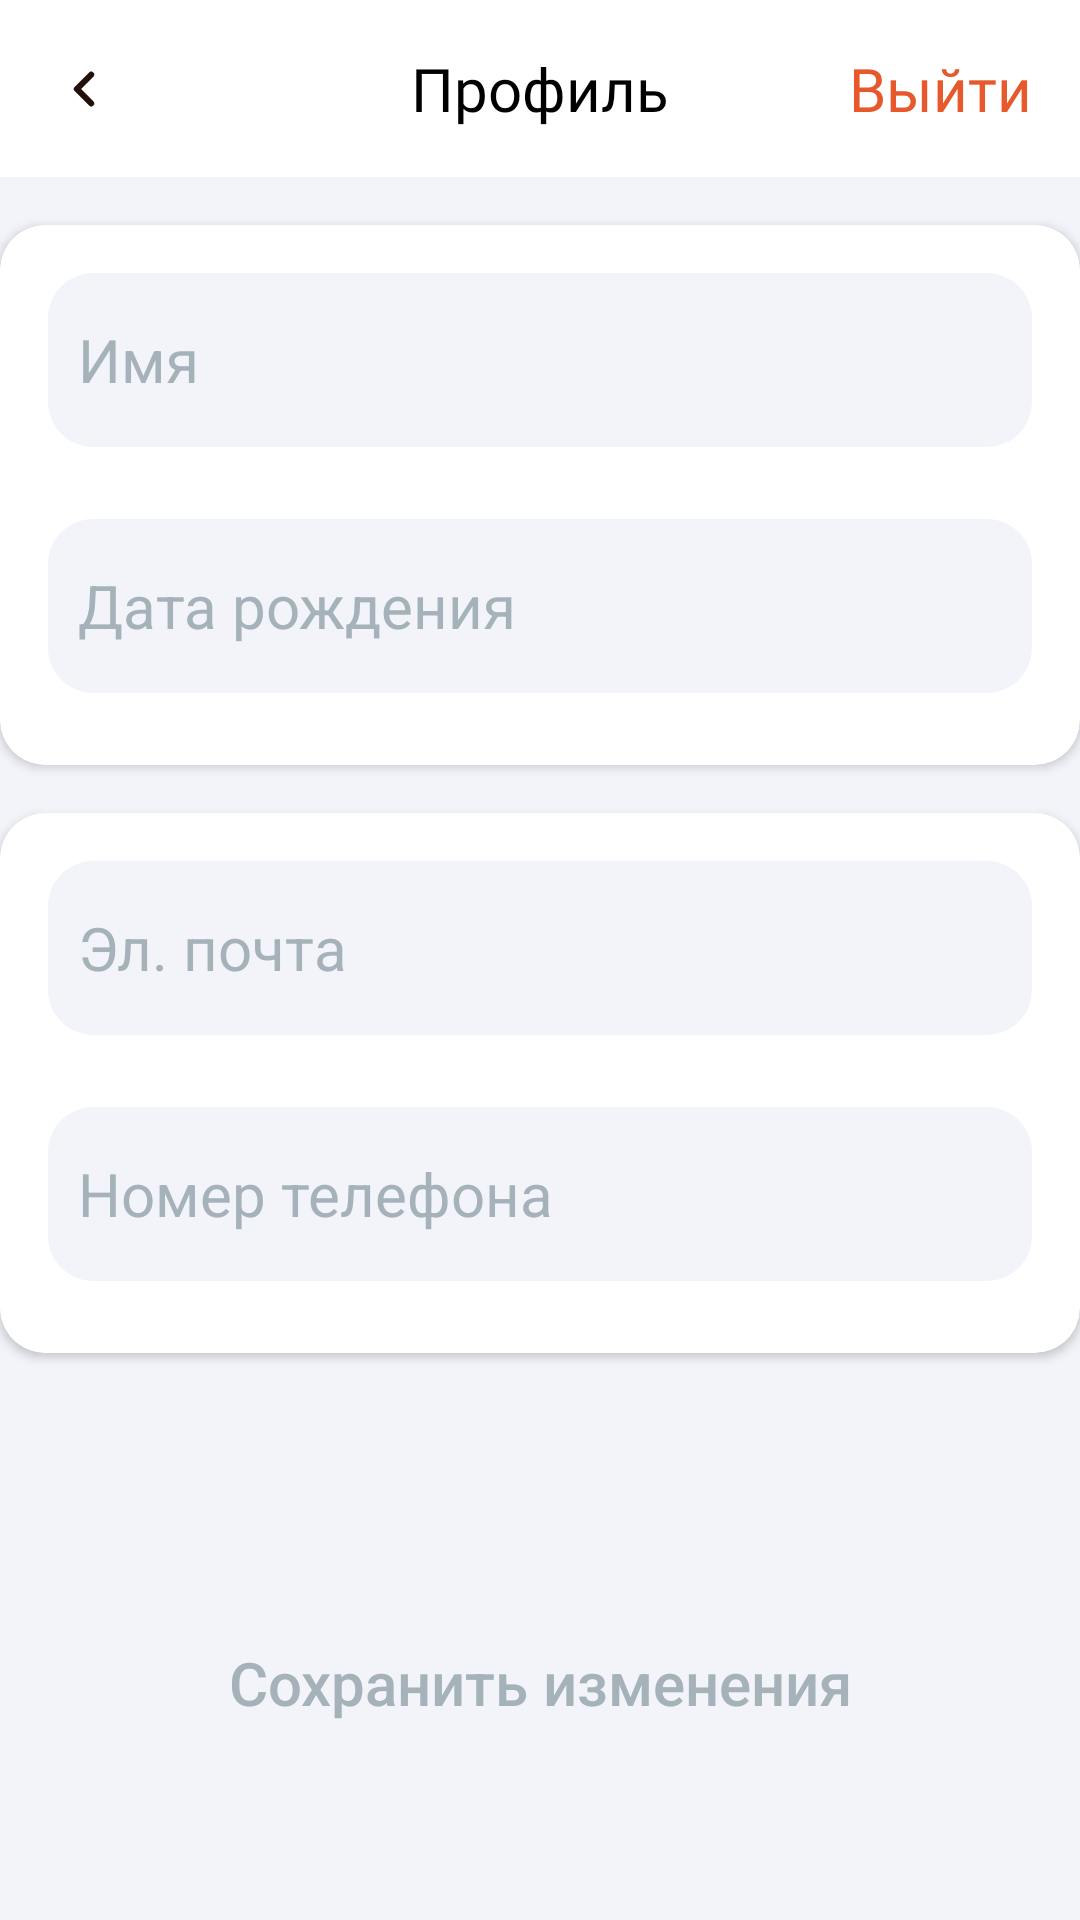

Icon bounding boxes for this 1080px×1920px phone screenshot, format (x1, y1, x2, y2):
arrow back: (73, 71, 95, 107)
